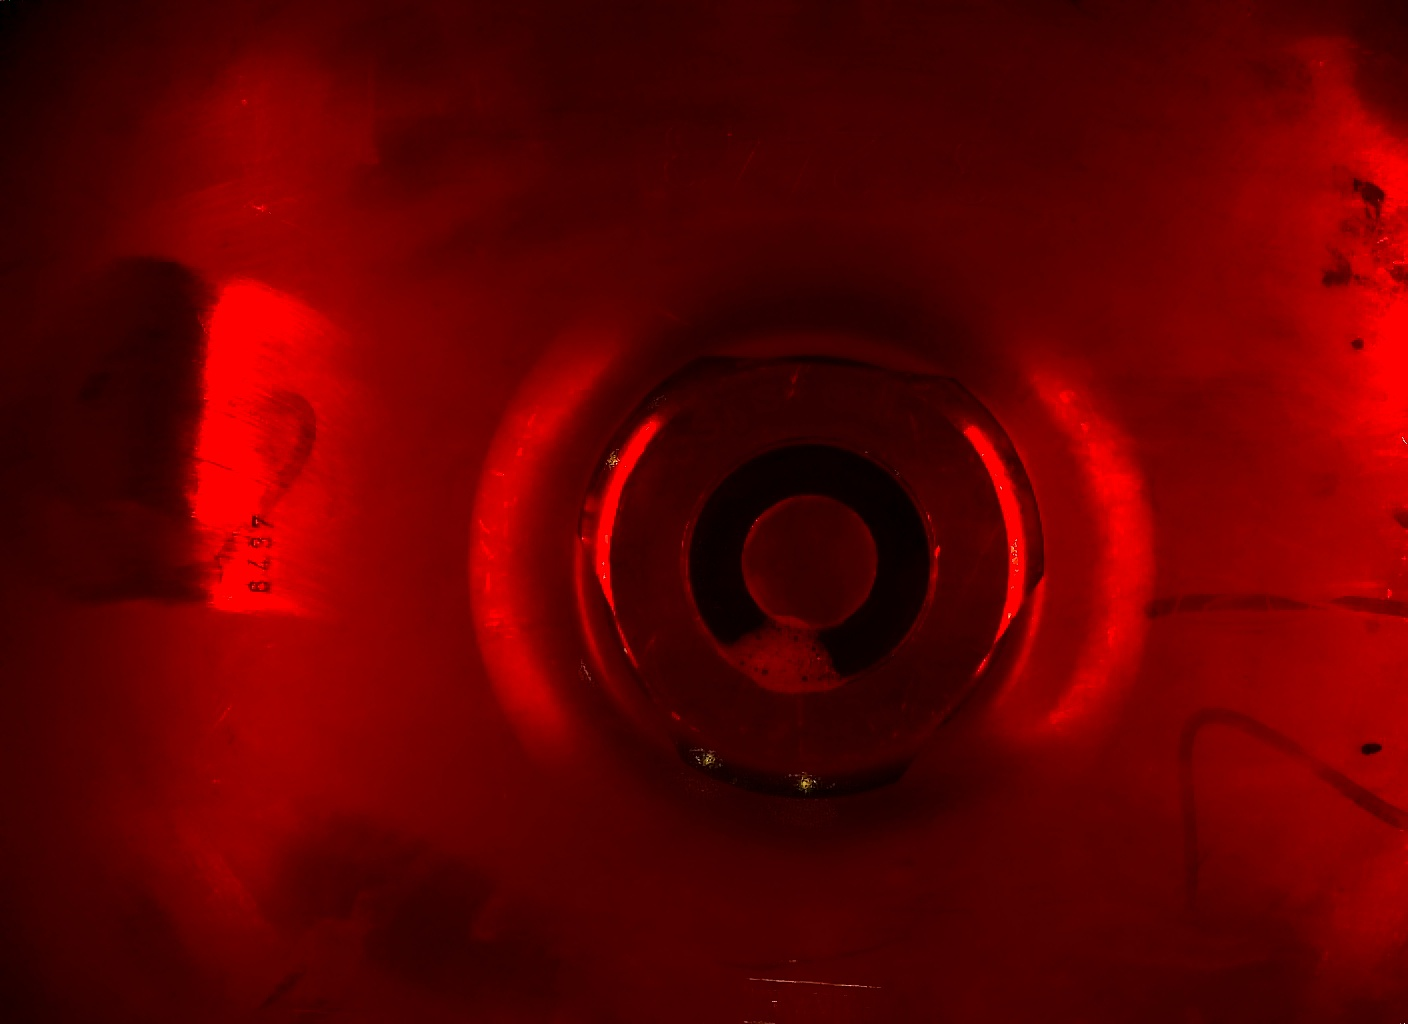pena: (719, 612, 850, 697)
